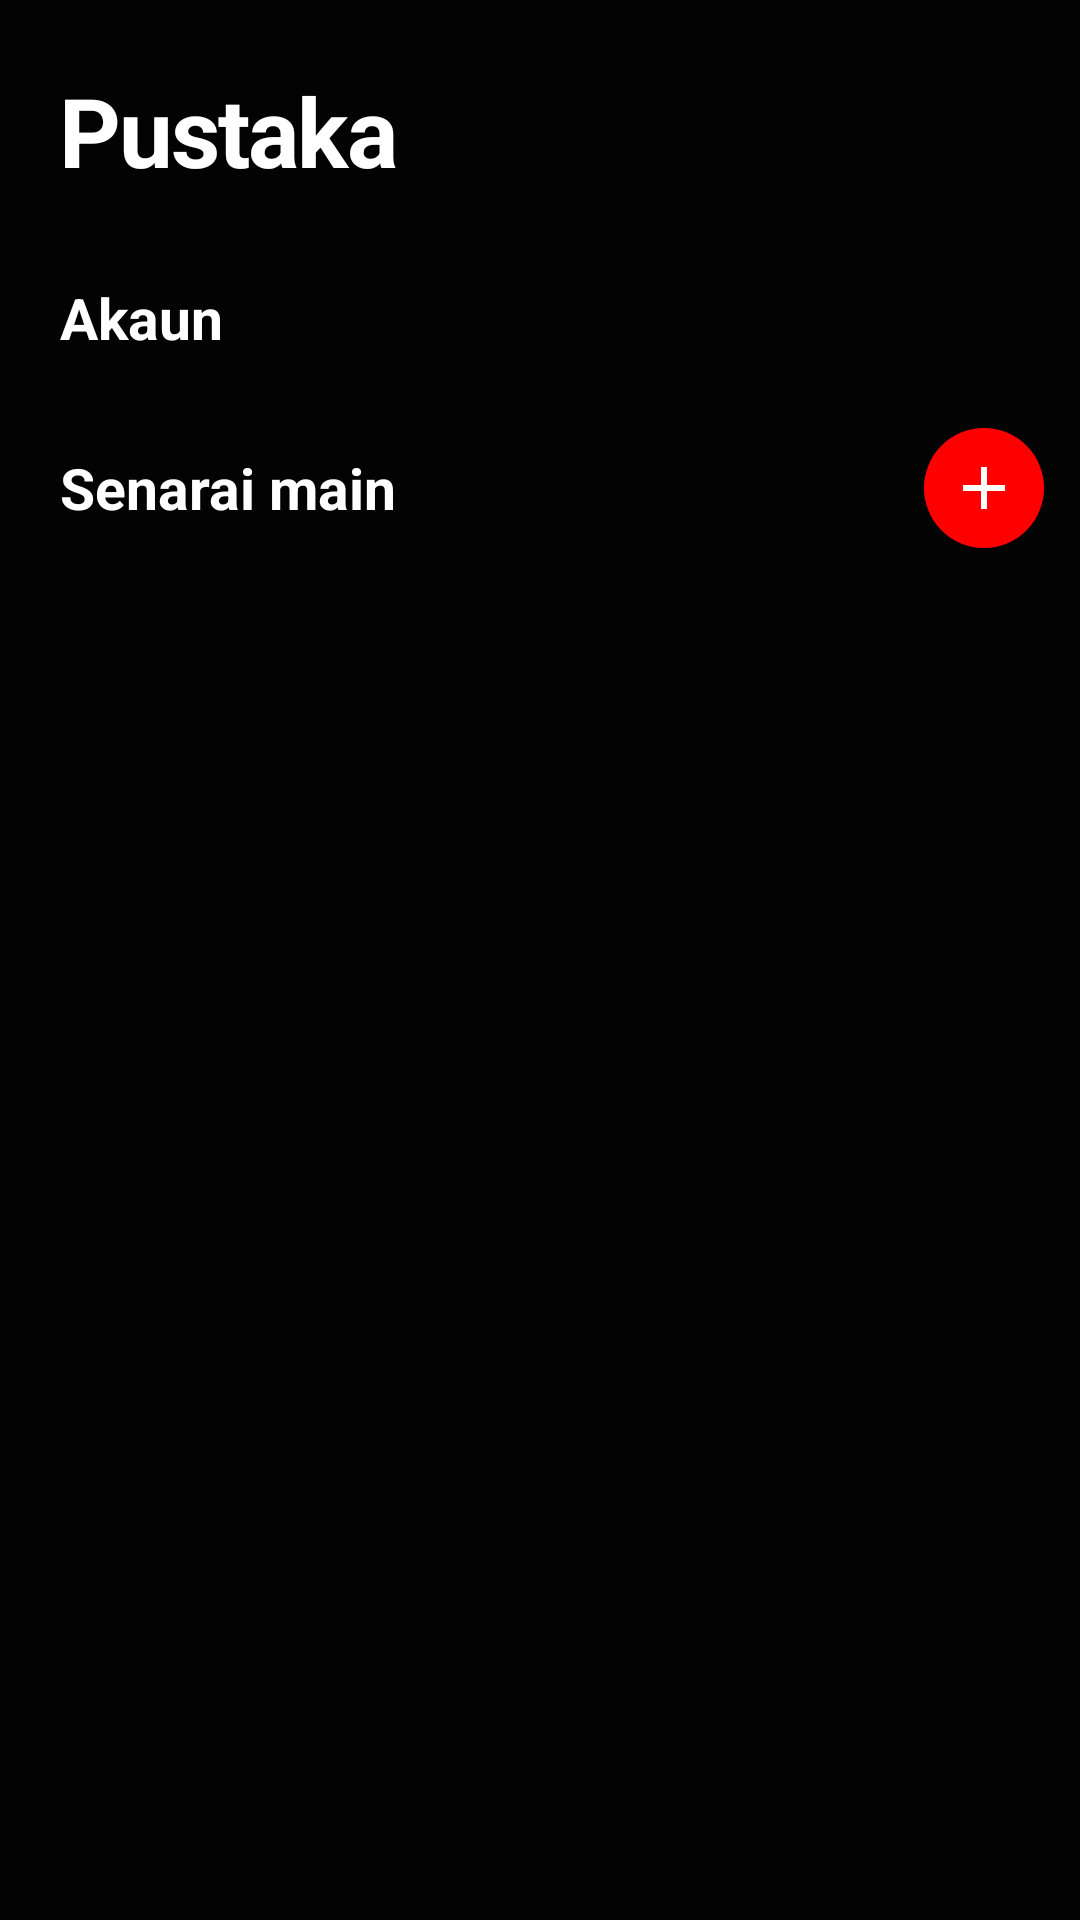

Where icons sit on this 1080 × 1920 app screen, as [x1, y1, x2, y2]:
add: [924, 428, 1044, 548]
